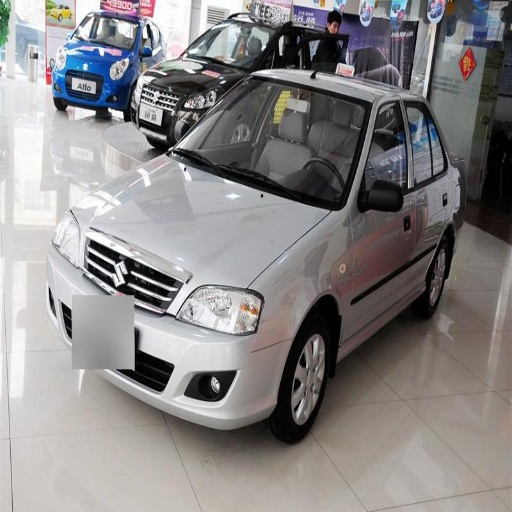front_bumper: (53, 255, 292, 426)
front_glass: (173, 78, 370, 208)
front_left_door: (347, 99, 415, 337)
